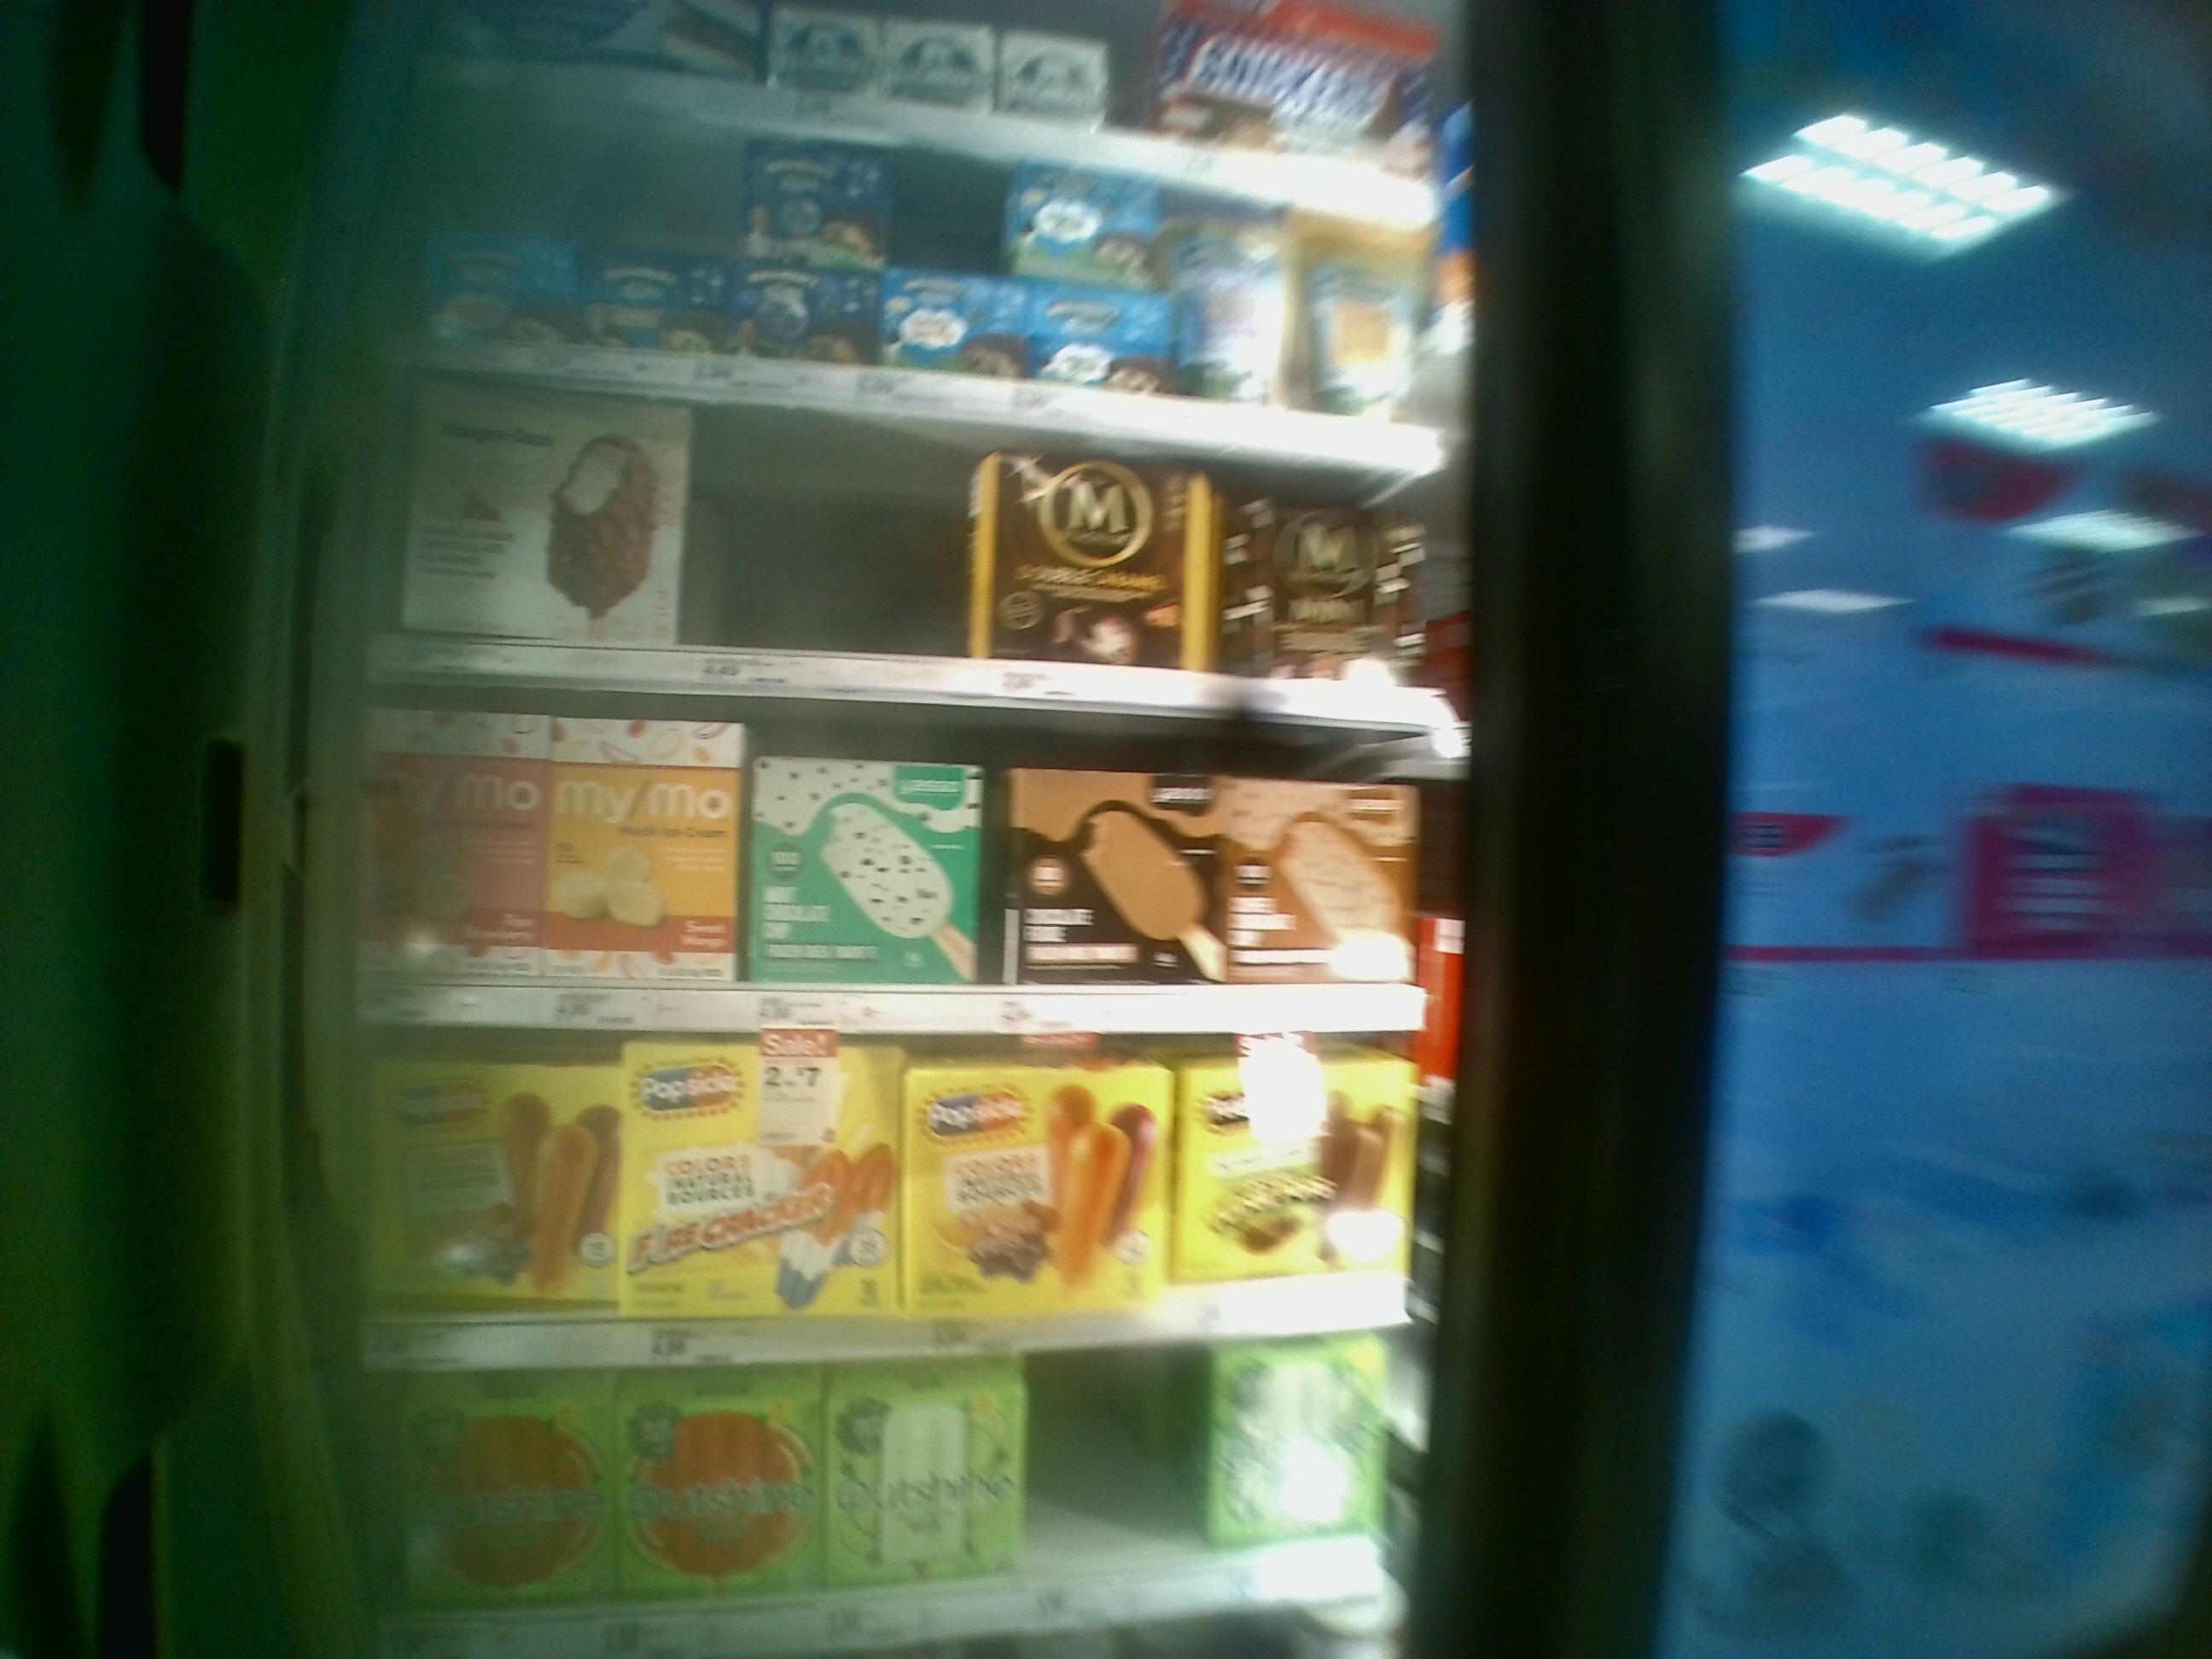ice-cream-shelf: (366, 678, 1439, 1030), (361, 1033, 1428, 1351), (347, 1361, 1423, 1645)
